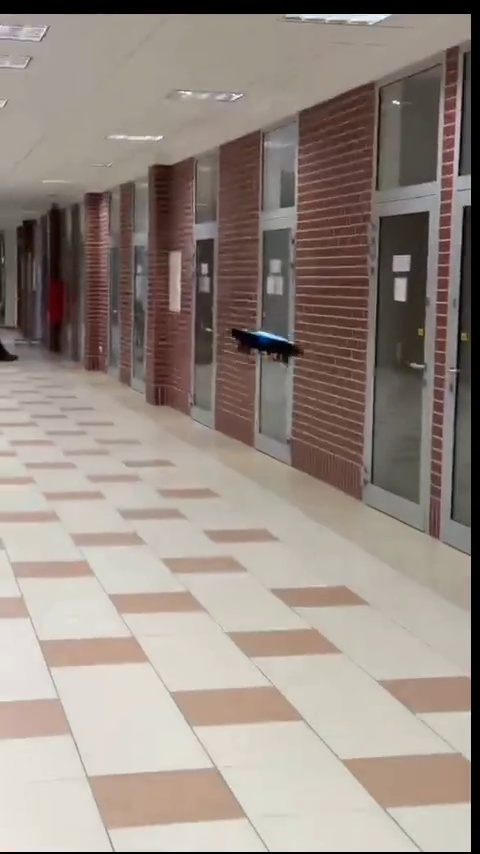drone: (228, 325, 304, 363)
